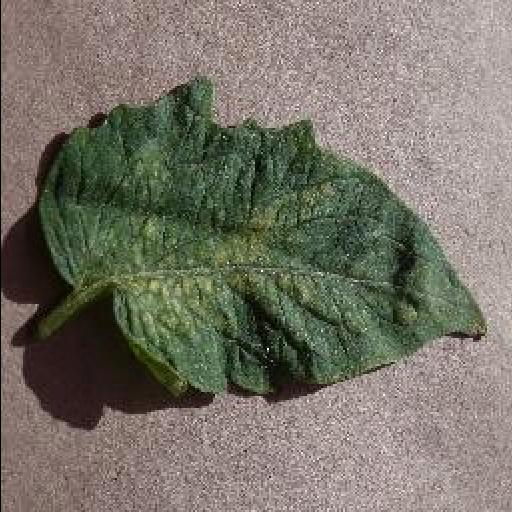disease_tomato: (36, 74, 488, 396)
